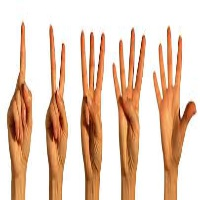ring: (155, 41, 167, 98), (79, 28, 90, 90), (116, 39, 127, 95), (15, 90, 25, 144), (52, 98, 63, 141)
